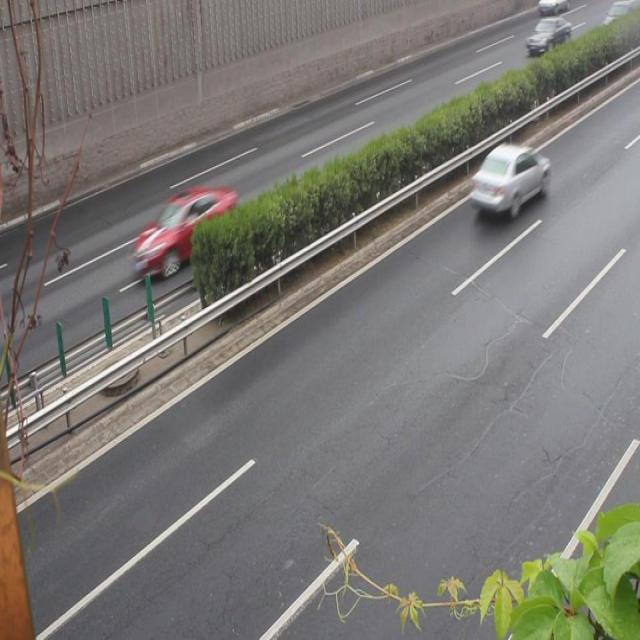car: (132, 187, 234, 273), (468, 142, 548, 218)
